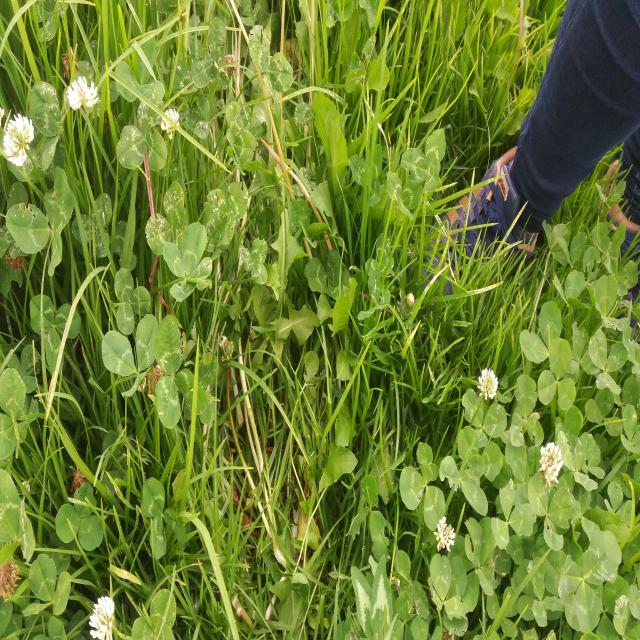Four Leaf Clover: (162, 221, 212, 302)
